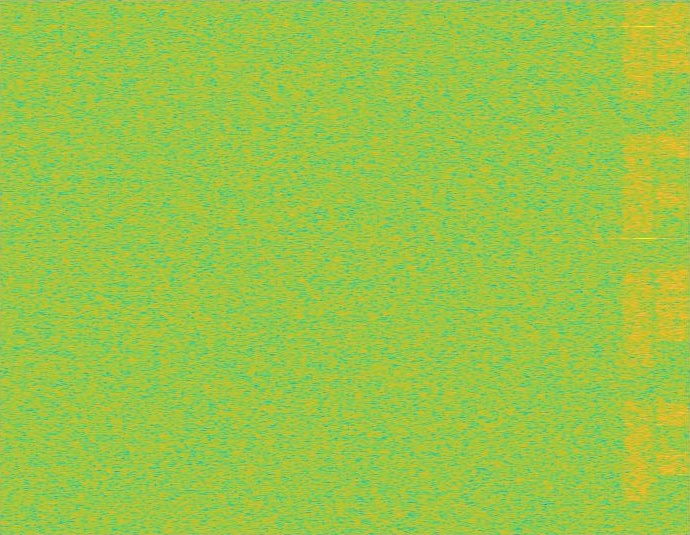5G: (621, 0, 656, 534)
LTE: (656, 0, 689, 534)
Radar: (638, 0, 652, 534)
